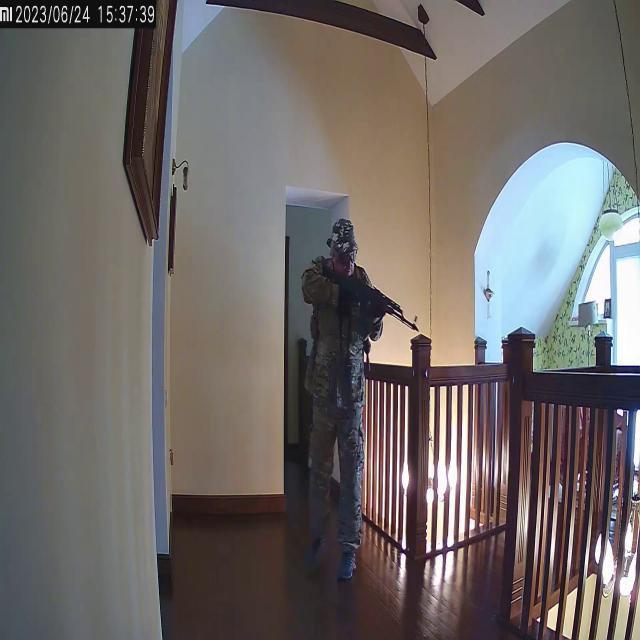gun: (303, 214, 423, 586), (318, 264, 421, 336)
